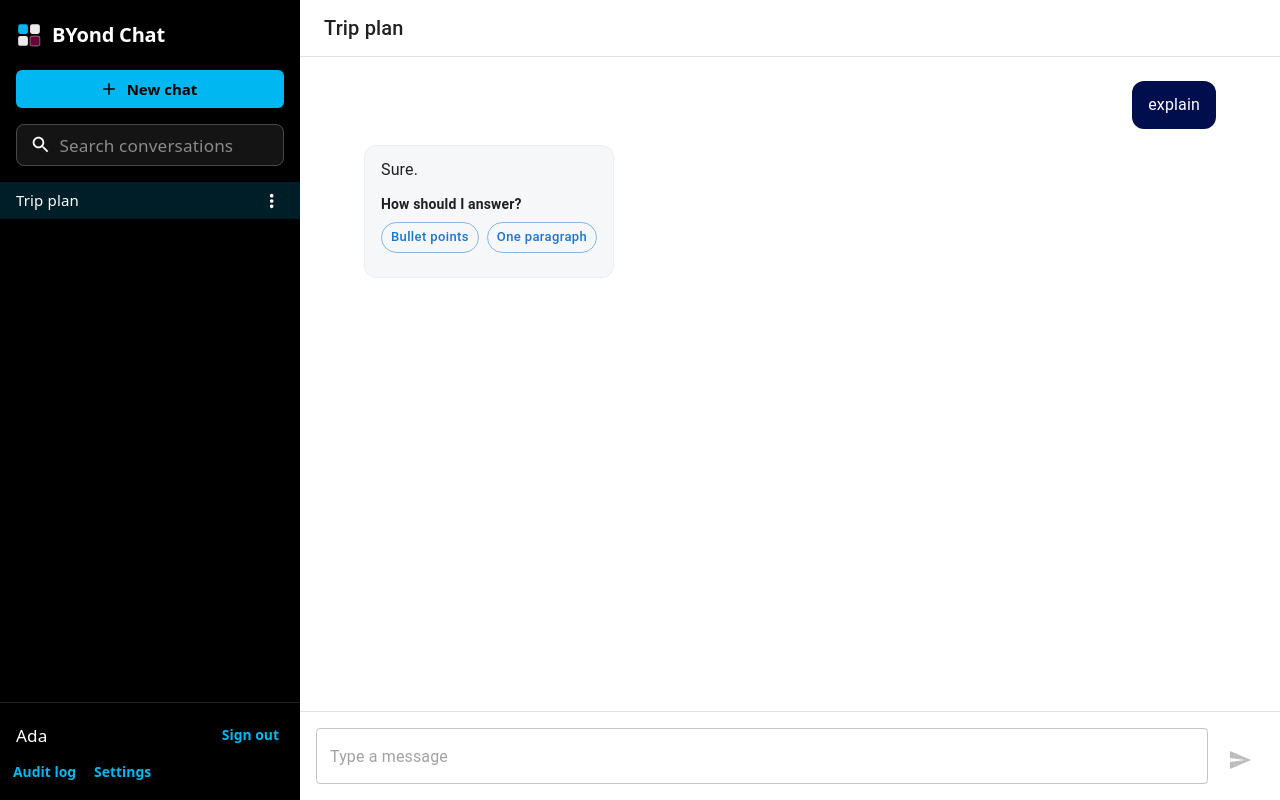
Test: rich chat › clicking a choice sends that option's text as the next message
Click the button "Bullet points" at (430, 237), box [381, 222, 479, 253]
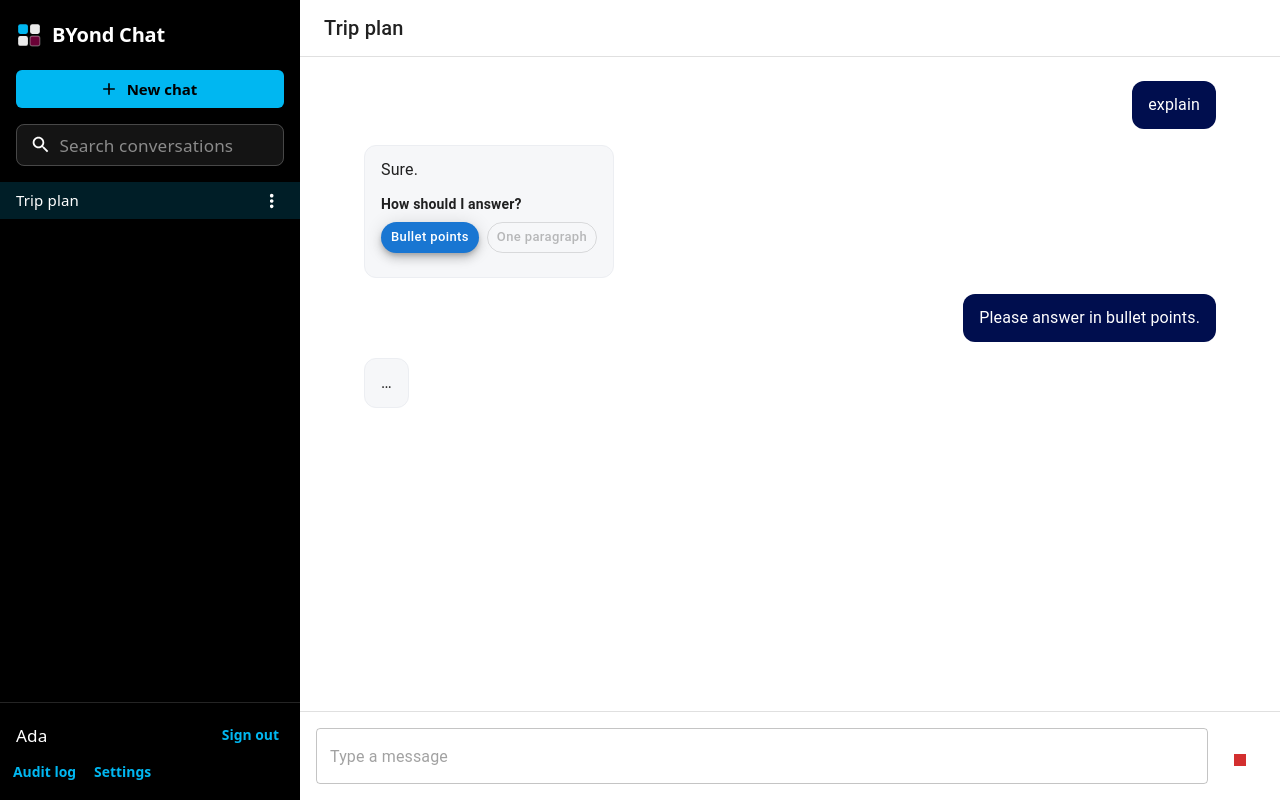
expect the button "One paragraph" is disabled: met, box [487, 222, 597, 253]
